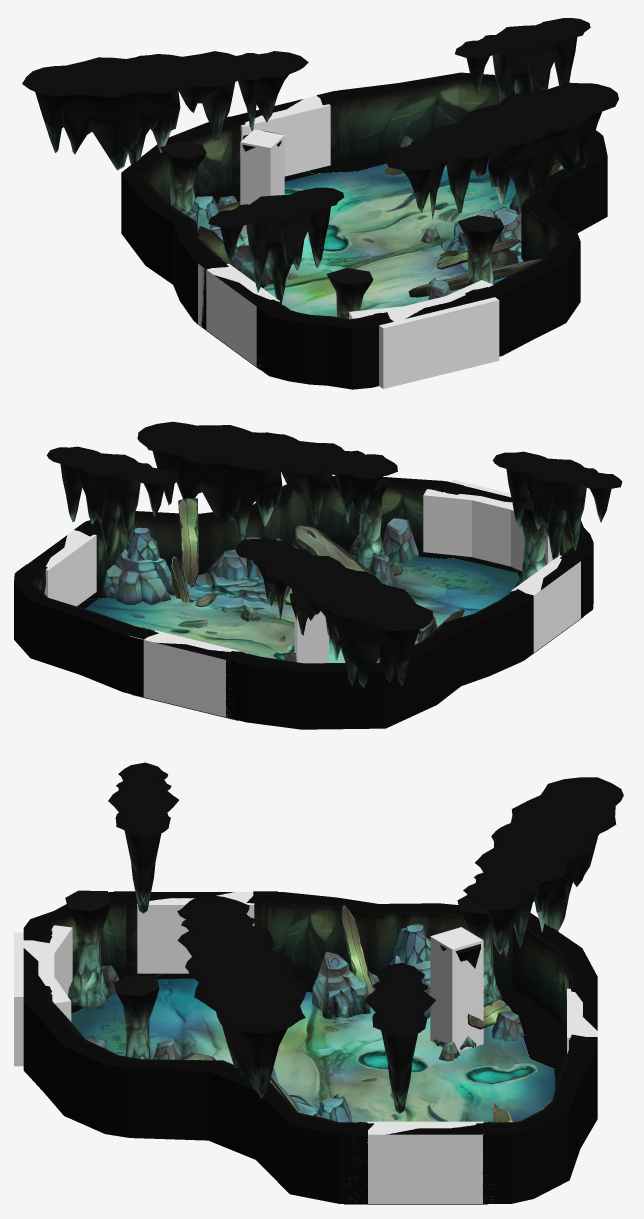
Rendered from Dungeon_073_Room_003.fbx.
3 views of the same model, one above another, from view 1: azimuth 30°, elevation 25°; view 2: azimuth 150°, elevation 25°; view 3: azimuth 270°, elevation 25° (orthographic). The views are drawn at different scales.
Parts seen in each view (by area): view 1: Dun_073_Room_003_top, Dun_073_Room_003_wall, Dun_073_Room_003_ground, DoorWay_NavMask (3) (×2), DoorWay_NavMask (1) (×2), Dun_073_OB_Pillar, Dun_073_Door_002 (×3), cube_061_pillar, Dun_073_OB_Rubble, Dun_073_OB_Big_stone, Dun_073_OB_Stone02, Dun_073_Room_003_shadow (+3 smaller); view 2: Dun_073_Room_003_top, Dun_073_Room_003_wall, Dun_073_Room_003_ground, DoorWay_NavMask (1) (×4), DoorWay_NavMask (3) (×2), Dun_073_OB_Stone02, Dun_073_Door_002 (×4), Dun_073_OB_Rubble, Dun_073_OB_Big_stone, Dun_073_OB_Pillar, DoorWay_NavMask (4), cube_061_pillar (+4 smaller); view 3: Dun_073_Room_003_wall, Dun_073_Room_003_top, Dun_073_Room_003_ground, DoorWay_NavMask (3) (×2), Dun_073_OB_Pillar, DoorWay_NavMask (1) (×3), Dun_073_Door_002 (×4), cube_061_pillar, Dun_073_Room_003_shadow, Dun_073_OB_Stone02, Dun_073_OB_Stone03, Dun_073_OB_Rubble (+4 smaller).
Boxes of the visible parts, <box> form: Dun_073_Room_003_top: <box>22,18,618,303</box>; Dun_073_Room_003_wall: <box>121,72,607,389</box>; Dun_073_Room_003_ground: <box>196,157,516,369</box>; DoorWay_NavMask (3) (×2): <box>198,264,499,388</box>; DoorWay_NavMask (1) (×2): <box>206,98,330,363</box>; Dun_073_OB_Pillar: <box>160,130,504,318</box>; Dun_073_Door_002 (×3): <box>196,91,498,367</box>; cube_061_pillar: <box>240,129,284,234</box>; Dun_073_OB_Rubble: <box>198,160,561,297</box>; Dun_073_OB_Big_stone: <box>440,206,523,269</box>; Dun_073_OB_Stone02: <box>185,165,563,300</box>; Dun_073_Room_003_shadow: <box>207,153,386,203</box>; Dun_073_Room_003_top: <box>46,421,622,687</box>; Dun_073_Room_003_wall: <box>14,476,593,729</box>; Dun_073_Room_003_ground: <box>85,554,583,720</box>; DoorWay_NavMask (1) (×4): <box>44,494,561,713</box>; DoorWay_NavMask (3) (×2): <box>130,561,580,717</box>; Dun_073_OB_Stone02: <box>100,518,419,662</box>; Dun_073_Door_002 (×4): <box>16,481,590,717</box>; Dun_073_OB_Rubble: <box>178,498,464,662</box>; Dun_073_OB_Big_stone: <box>185,537,275,612</box>; Dun_073_OB_Pillar: <box>289,477,546,662</box>; DoorWay_NavMask (4): <box>423,489,486,556</box>; cube_061_pillar: <box>294,611,328,663</box>; Dun_073_Room_003_wall: <box>23,892,597,1203</box>; Dun_073_Room_003_top: <box>108,762,623,1113</box>; Dun_073_Room_003_ground: <box>71,978,555,1204</box>; DoorWay_NavMask (3) (×2): <box>14,932,491,1203</box>; Dun_073_OB_Pillar: <box>65,890,502,1059</box>; DoorWay_NavMask (1) (×3): <box>23,892,483,1203</box>; Dun_073_Door_002 (×4): <box>23,891,597,1204</box>; cube_061_pillar: <box>430,927,483,1051</box>; Dun_073_Room_003_shadow: <box>71,970,566,1109</box>; Dun_073_OB_Stone02: <box>84,924,430,1122</box>; Dun_073_OB_Stone03: <box>312,951,370,1019</box>; Dun_073_OB_Rubble: <box>179,904,513,1122</box>.
Size of what is drawn, in the model's own units: 17.49 by 5.2 by 16.09.
